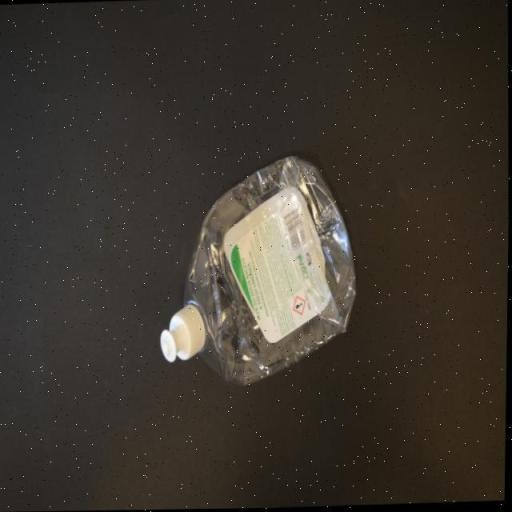plastic: (157, 155, 362, 394)
